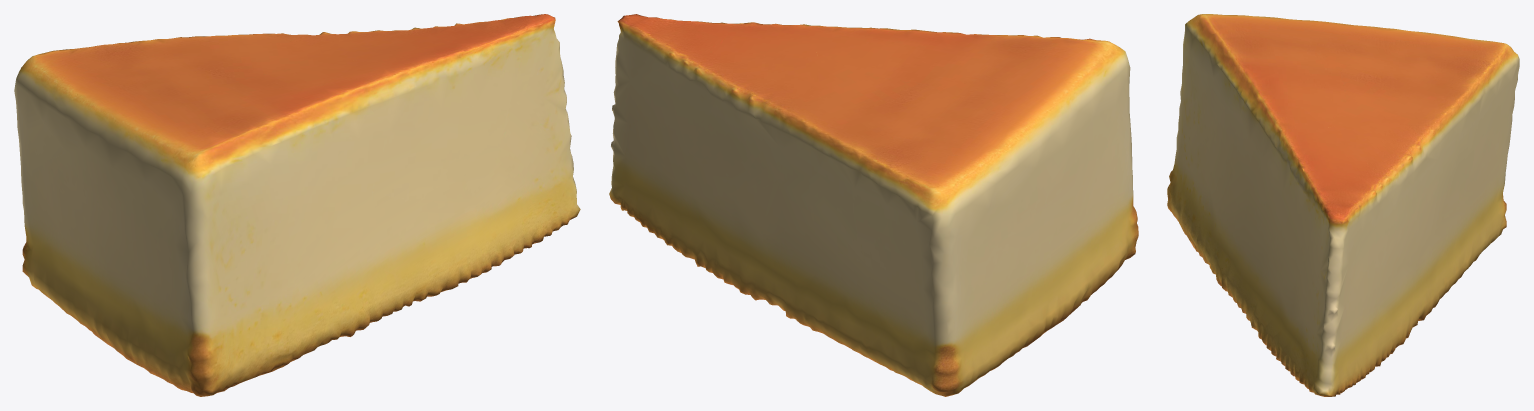
Rendered from selected.glb.
The picture shows the model from 3 angles, left to right: view 1: azimuth 30°, elevation 25°; view 2: azimuth 150°, elevation 25°; view 3: azimuth 270°, elevation 25°; orthographic projection. The views are drawn at different scales.
Parts seen in each view (by area): view 1: tripo_node_a803101b-aa70-408d-84a2-1d23a9e1dd01; view 2: tripo_node_a803101b-aa70-408d-84a2-1d23a9e1dd01; view 3: tripo_node_a803101b-aa70-408d-84a2-1d23a9e1dd01.
Boxes of the visible parts, bbox=[...] form: tripo_node_a803101b-aa70-408d-84a2-1d23a9e1dd01: bbox=[14, 14, 580, 396]; tripo_node_a803101b-aa70-408d-84a2-1d23a9e1dd01: bbox=[609, 14, 1138, 396]; tripo_node_a803101b-aa70-408d-84a2-1d23a9e1dd01: bbox=[1167, 14, 1519, 396].
Size of the model in its own units: 0.998 by 0.5098 by 0.7402.
Materials: 1 (1 with a texture image).
